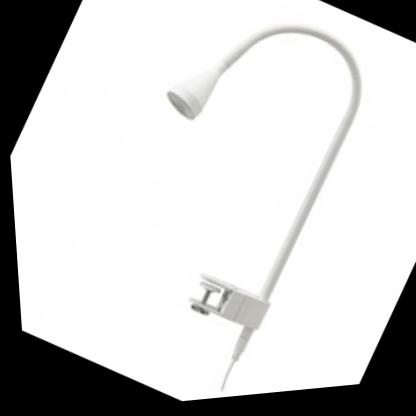Lamp: (23, 0, 416, 414)
